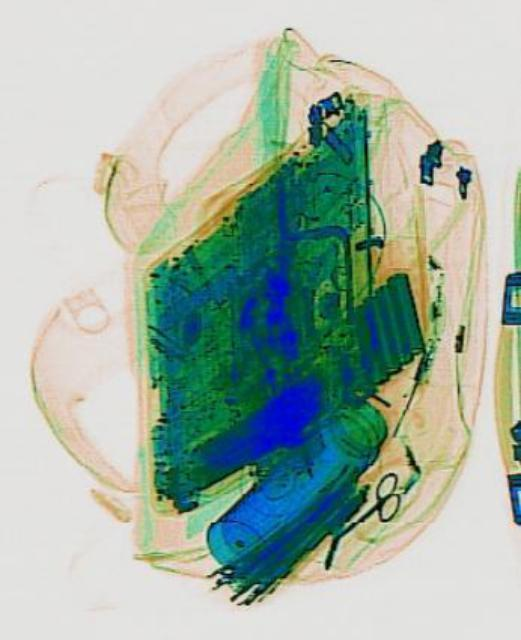Scissors: (318, 465, 408, 553)
